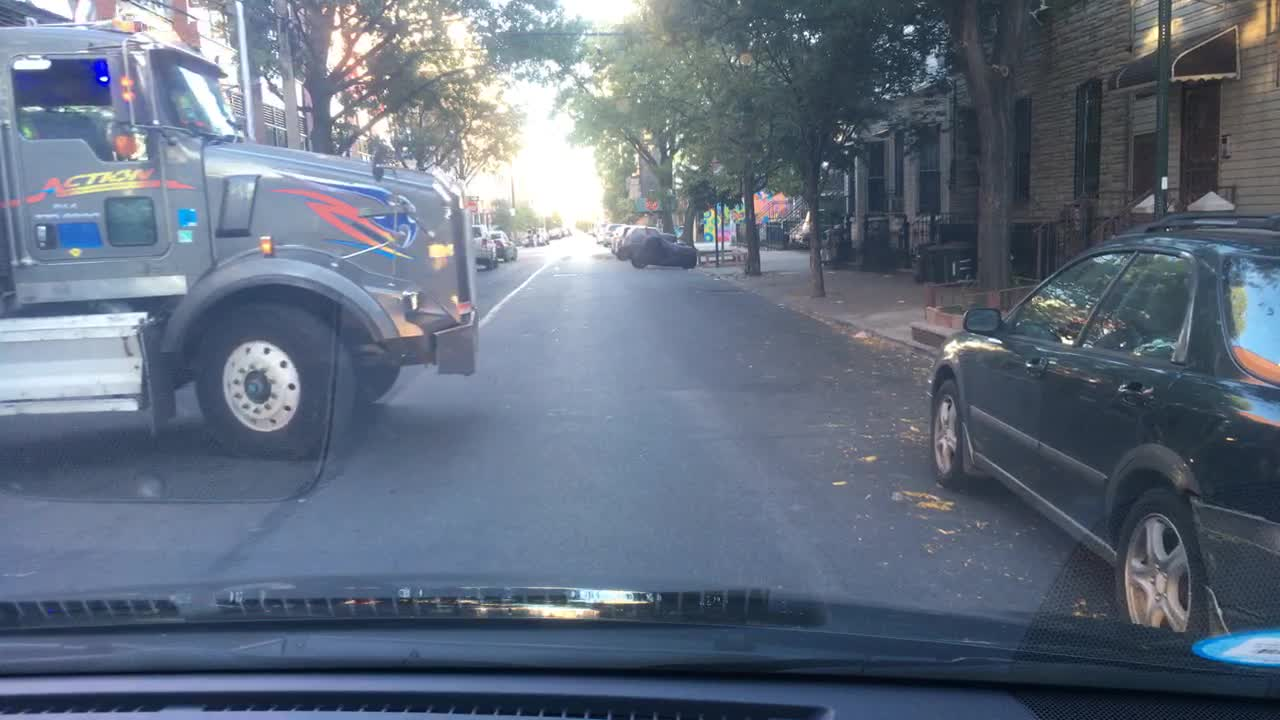car: (924, 217, 1277, 652), (628, 235, 701, 272), (616, 222, 681, 260), (470, 222, 499, 273), (490, 230, 522, 258), (609, 225, 633, 255), (603, 222, 626, 247), (521, 228, 547, 248), (549, 225, 571, 241), (594, 222, 610, 244), (591, 222, 609, 236)
truck: (0, 0, 483, 490)
